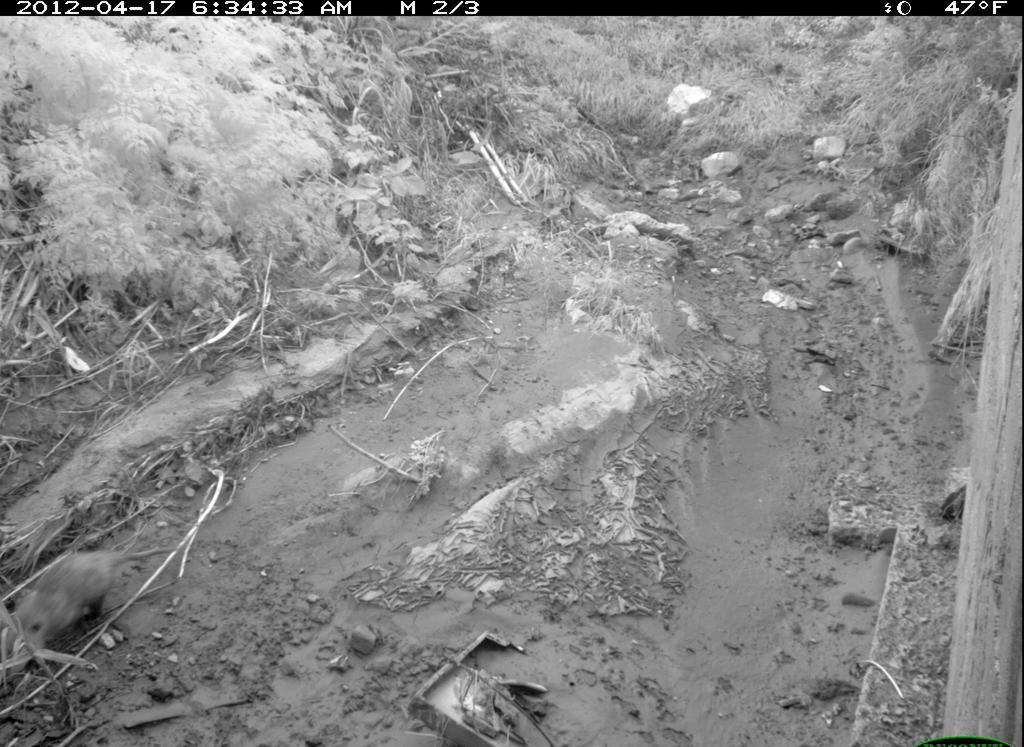opossum: (11, 541, 173, 673)
